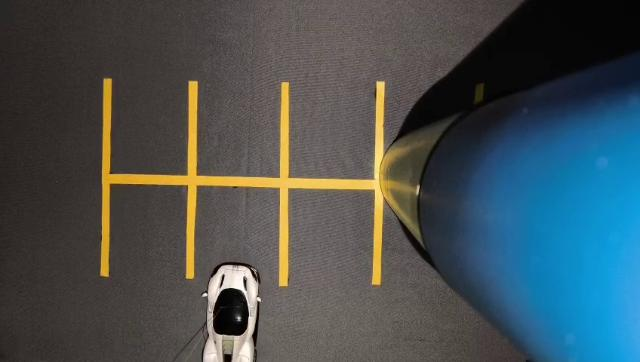toy_car: (197, 248, 276, 362)
